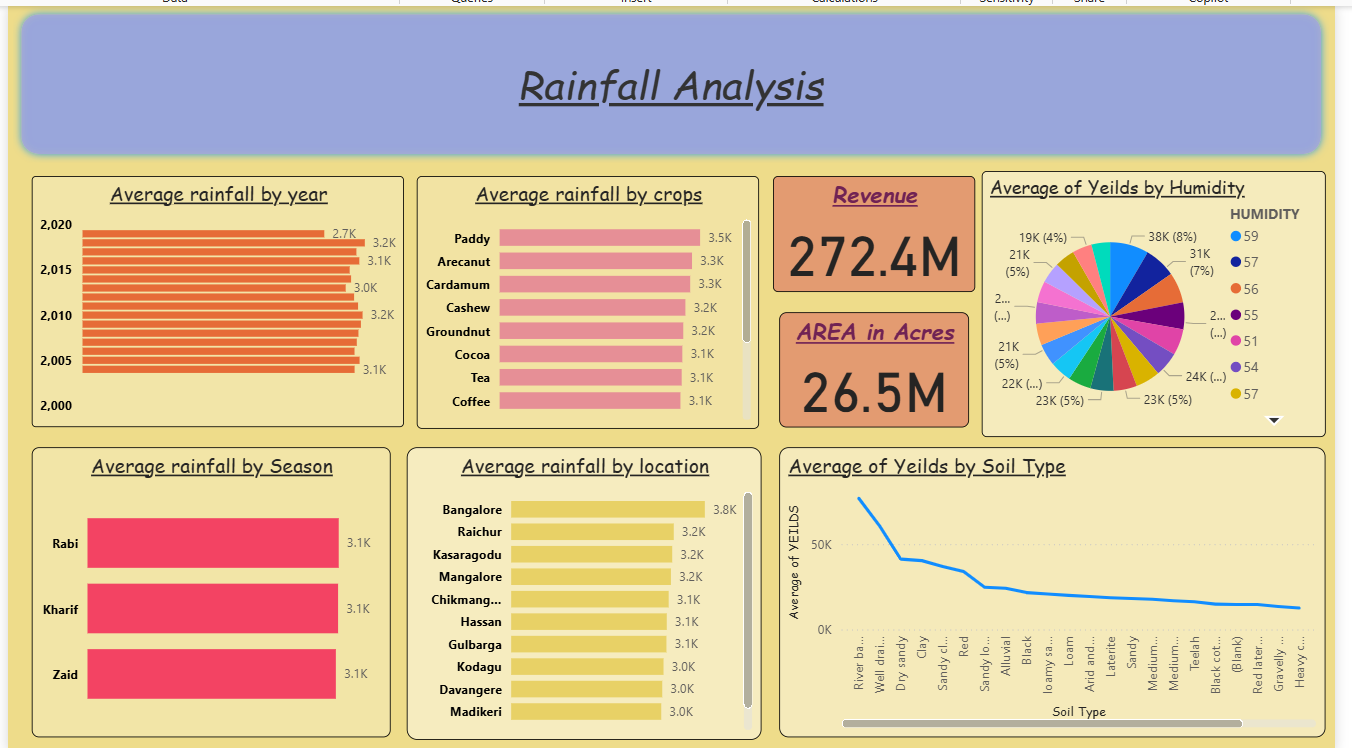

What the dashboard file says about the page in this screenshot:
{"tool":"powerbi","page":{"name":"Rainfall Analysis","canvas":[1280,720],"ordinal":0},"visuals":[{"type":"shape","box":[4.8,0,1270.4,150.8],"z":0},{"type":"barChart","title":"Average rainfall by year","fields":{"Category":["AGRICULTURE.YEAR"],"Y":["Avg(AGRICULTURE.RAINFALL)"]},"box":[23.2,163.9,359.5,242.1],"z":1000},{"type":"barChart","title":"Average rainfall by Season","fields":{"Y":["Avg(AGRICULTURE.RAINFALL)"],"Category":["AGRICULTURE.SEASON"]},"box":[22.9,425.9,346.2,279.9],"z":2000},{"type":"barChart","title":"Average rainfall by crops","fields":{"Y":["Avg(AGRICULTURE.RAINFALL)"],"Category":["AGRICULTURE.CROPS"]},"box":[394.5,164.1,330.6,243.7],"z":3000},{"type":"barChart","title":"Average rainfall by location","fields":{"Y":["Avg(AGRICULTURE.RAINFALL)"],"Category":["AGRICULTURE.LOCATION"]},"box":[384.9,425.9,342.6,282.3],"z":4000},{"type":"card","title":"Revenue","fields":{"Values":["Sum(AGRICULTURE.PRICE)"]},"box":[738.3,164.1,195.4,112.2],"z":5000},{"type":"pieChart","title":"Average of Yeilds by Humidity","fields":{"Category":["AGRICULTURE.HUMIDITY"],"Y":["Avg(AGRICULTURE.YEILDS)"]},"box":[939.8,159.3,331.8,257],"z":6000},{"type":"lineChart","title":"Average of Yeilds  by Soil Type","fields":{"Category":["AGRICULTURE.SOIL_TYPE"],"Y":["Avg(AGRICULTURE.YEILDS)"]},"box":[744.4,425.9,527.2,279.9],"z":7000},{"type":"card","title":"AREA in Acres","fields":{"Values":["Sum(AGRICULTURE.AREA)"]},"box":[744.4,295.6,183.4,111],"z":7001}]}

Visuals, with their boxes on the page's 1280x720 design canvas (x1, y1, x2, y2). These are canvas units, not pixel positions in the 1352x748 screenshot, which may show the page scaled, cropped or inside an application window:
shape: 5/0/1275/151
"Average rainfall by year" barChart: 23/164/383/406
"Average rainfall by Season" barChart: 23/426/369/706
"Average rainfall by crops" barChart: 394/164/725/408
"Average rainfall by location" barChart: 385/426/728/708
"Revenue" card: 738/164/934/276
"Average of Yeilds by Humidity" pieChart: 940/159/1272/416
"Average of Yeilds  by Soil Type" lineChart: 744/426/1272/706
"AREA in Acres" card: 744/296/928/407
